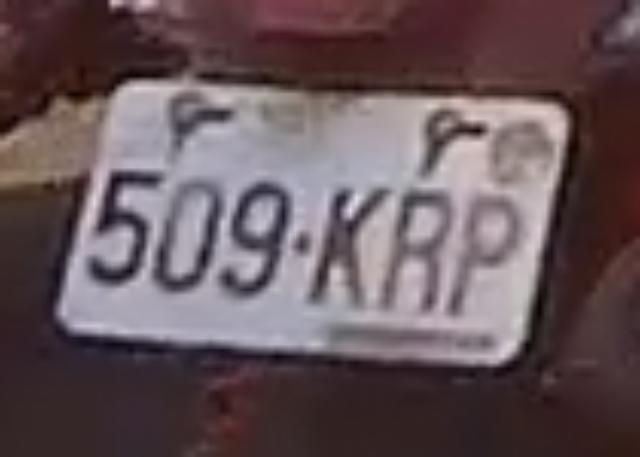plate: (52, 64, 580, 378)
